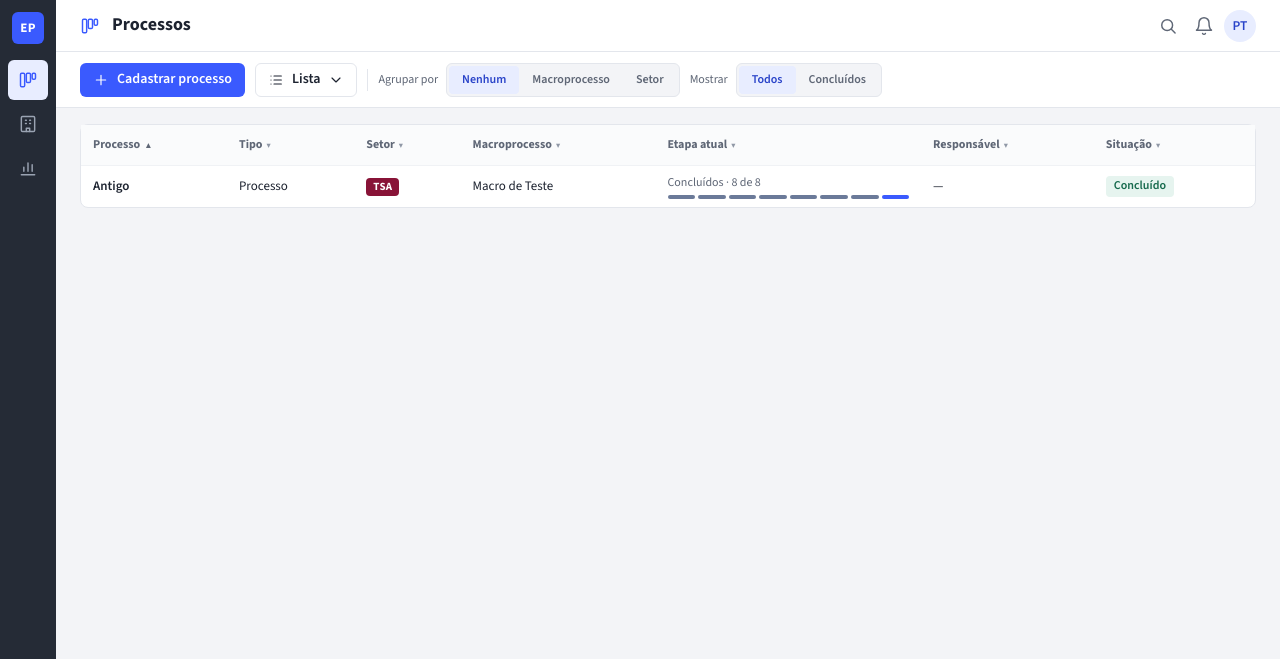
o concluído fora do Quadro aparece na Lista e o verso dele é o de qualquer concluído, sem Arquivar nem Desarquivar
The width and height of the screenshot is (1280, 659).
Click the cell "TSA".
click(383, 187)  # box left=354, top=166, right=461, bottom=207
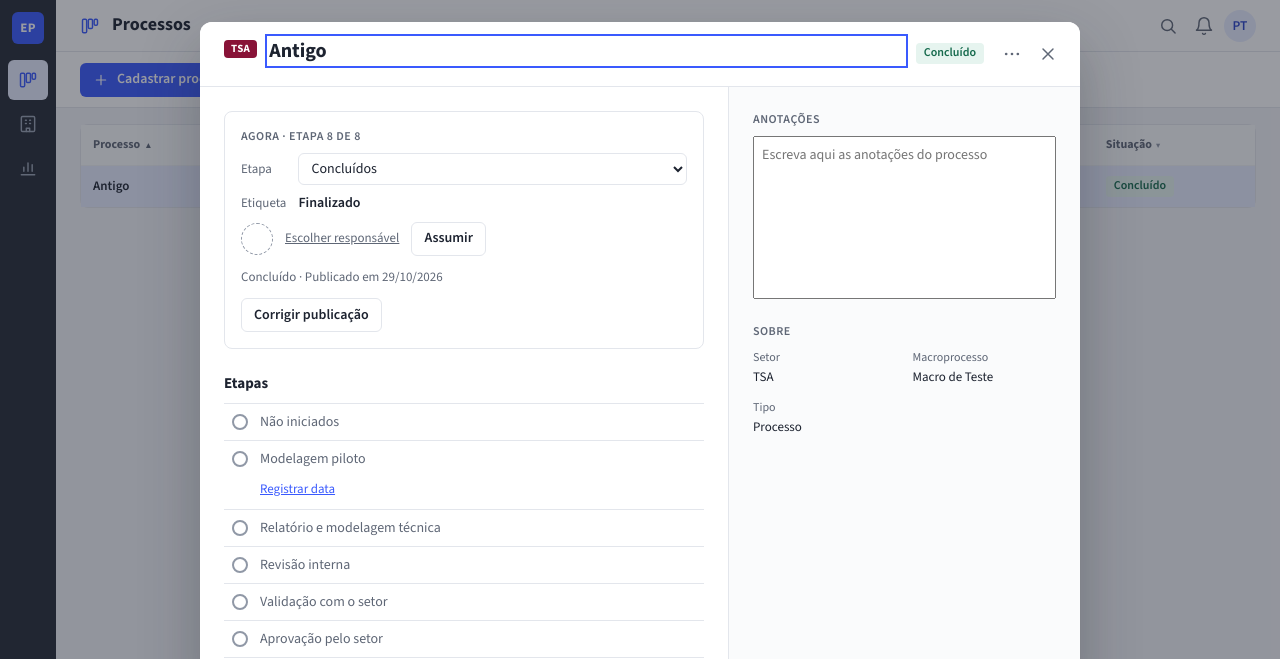
Now the heading "Antigo" is shown, box left=269, top=37, right=327, bottom=65
Now the button "Corrigir publicação" is shown, box left=241, top=298, right=382, bottom=332
